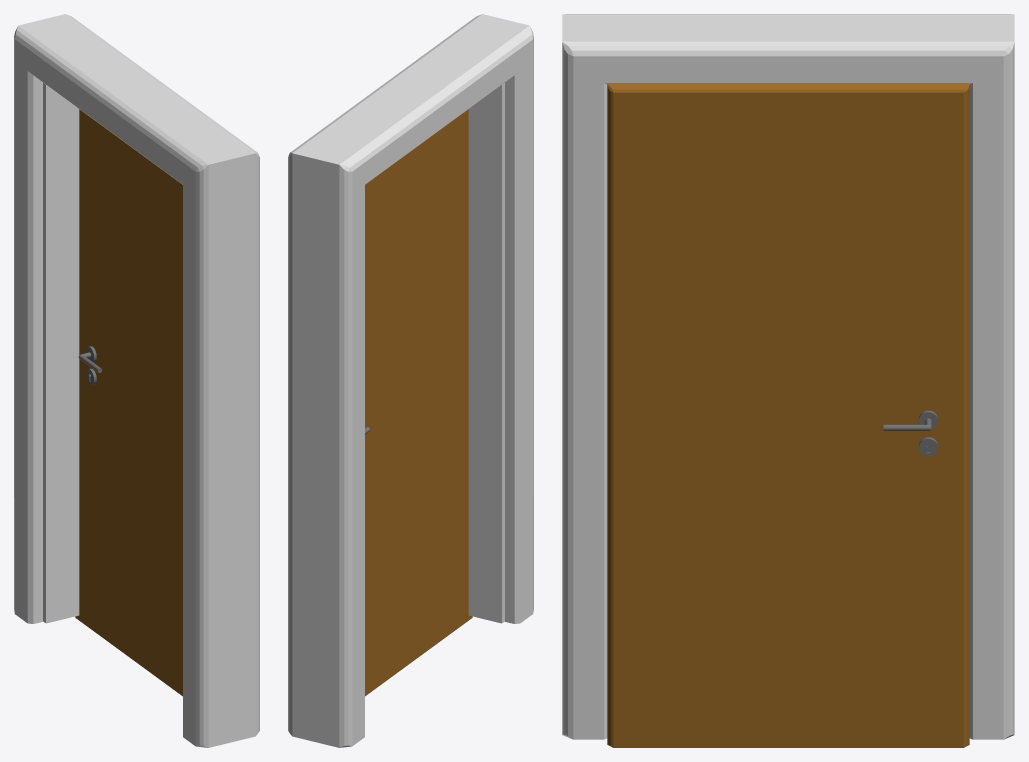
File: dvere.glb
3 views of the same model, side by side, from view 1: azimuth 30°, elevation 25°; view 2: azimuth 150°, elevation 25°; view 3: azimuth 270°, elevation 25° (orthographic). The views are drawn at different scales.
Visible parts, largest first — view 1: Cube.001, Cube, Cube.002; view 2: Cube.001, Cube, Cube.002; view 3: Cube, Cube.001.
Boxes of the visible parts, box(x1,y1,x2,y2) form: Cube.001: box(14, 14, 259, 747); Cube: box(75, 109, 182, 696); Cube.002: box(43, 83, 45, 622); Cube.001: box(288, 14, 533, 747); Cube: box(365, 109, 472, 696); Cube.002: box(502, 85, 504, 622); Cube: box(607, 83, 969, 747); Cube.001: box(562, 14, 1014, 739).
Bounding box in the file's own units: 0.6498 × 4.29 × 2.52.
